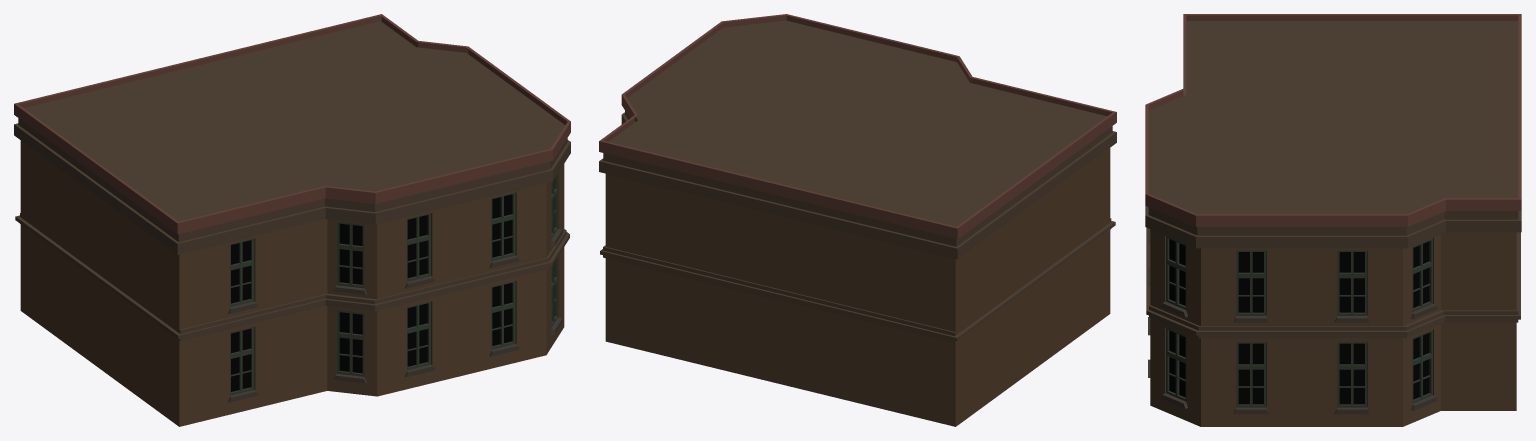
Rendered from Building3_Top.fbx.
3 renders of one model, left to right at view 1: azimuth 30°, elevation 25°; view 2: azimuth 150°, elevation 25°; view 3: azimuth 270°, elevation 25°, orthographic. The views are drawn at different scales.
Visible parts, largest first — view 1: Cube.009; view 2: Cube.009; view 3: Cube.009.
Part boxes in pixels (left/top/right/bottom): Cube.009: left=14, top=14, right=570, bottom=426; Cube.009: left=599, top=14, right=1116, bottom=426; Cube.009: left=1145, top=14, right=1521, bottom=426.
Size of the model in its own units: 1890 by 933 by 1490.
